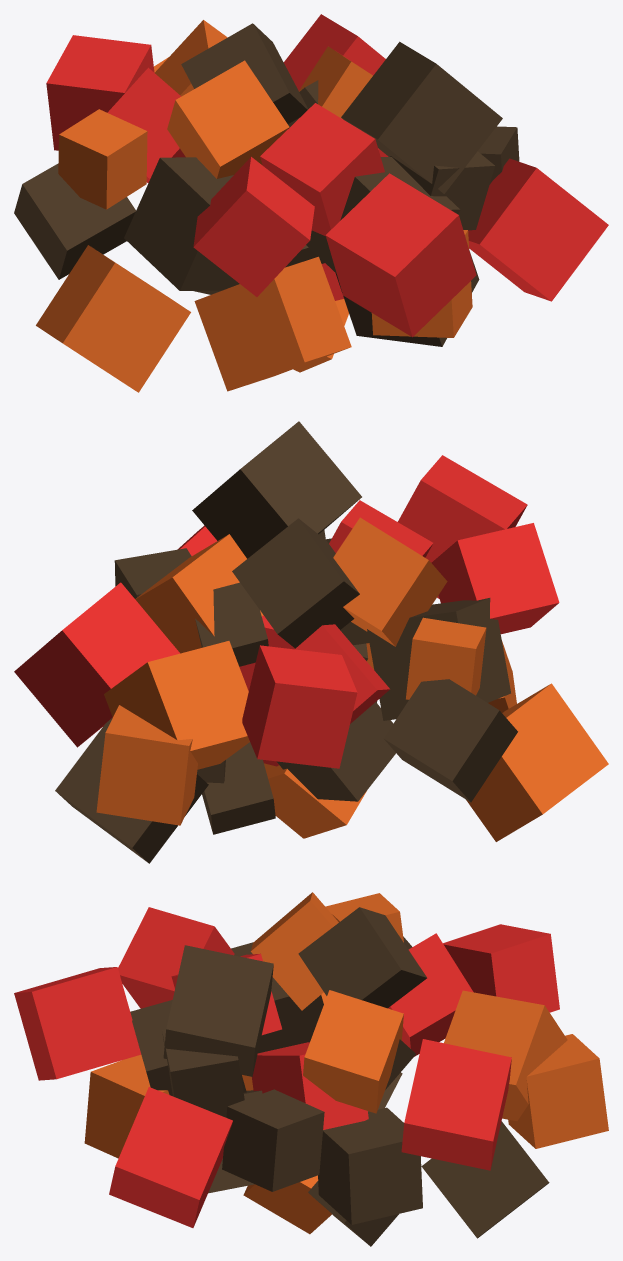
File: salad.fbx
The picture shows the model from 3 angles, top to bottom: view 1: azimuth 30°, elevation 25°; view 2: azimuth 150°, elevation 25°; view 3: azimuth 270°, elevation 25°; orthographic projection. The views are drawn at different scales.
Parts seen in each view (by area): view 1: first, second, third; view 2: third, second, first; view 3: first, third, second.
Part boxes in pixels (x1=…): first: x1=46, y1=14, x2=608, y2=337; second: x1=36, y1=20, x2=472, y2=392; third: x1=14, y1=23, x2=519, y2=346; third: x1=55, y1=421, x2=517, y2=863; second: x1=96, y1=517, x2=608, y2=841; first: x1=14, y1=455, x2=559, y2=768; first: x1=14, y1=907, x2=559, y2=1227; third: x1=130, y1=907, x2=549, y2=1246; second: x1=84, y1=892, x2=608, y2=1234.
Size of the model in its own units: 1363 by 904 by 1513.
